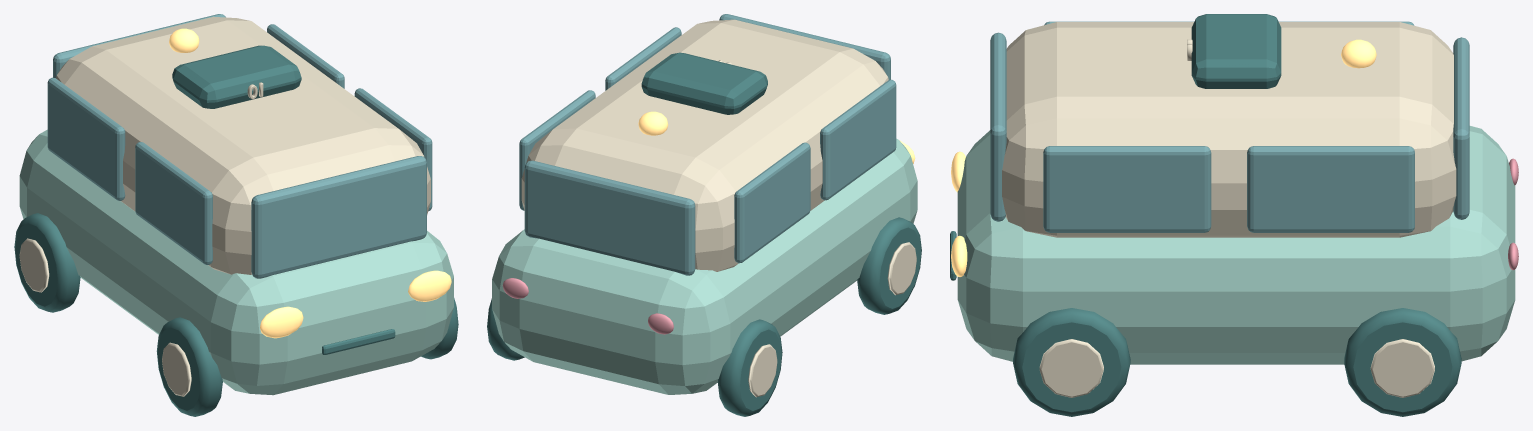
The model's file is shuttle.glb.
3 views of the same model, side by side, from view 1: azimuth 30°, elevation 25°; view 2: azimuth 150°, elevation 25°; view 3: azimuth 270°, elevation 25° (orthographic). The views are drawn at different scales.
Parts seen in each view (by area): view 1: shuttle; view 2: shuttle; view 3: shuttle.
Part boxes in pixels (bbox=[...]): shuttle: bbox=[14, 14, 458, 416]; shuttle: bbox=[487, 14, 921, 416]; shuttle: bbox=[950, 14, 1518, 416].
Bounding box in the file's own units: 2.18 × 2.1 × 3.49.
